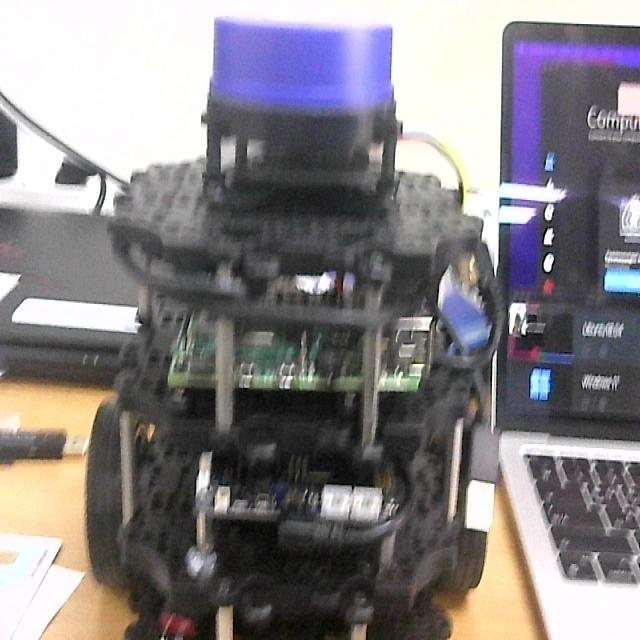turtle: (84, 13, 500, 640)
